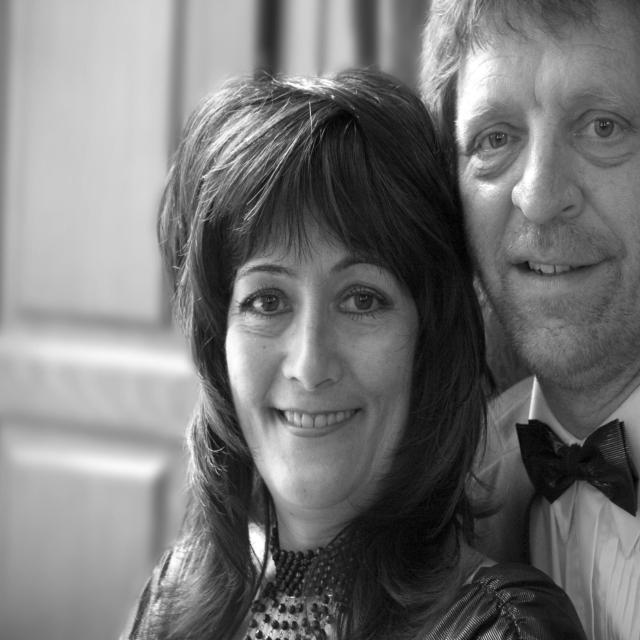no-glass: (463, 110, 637, 165), (242, 285, 399, 320)
